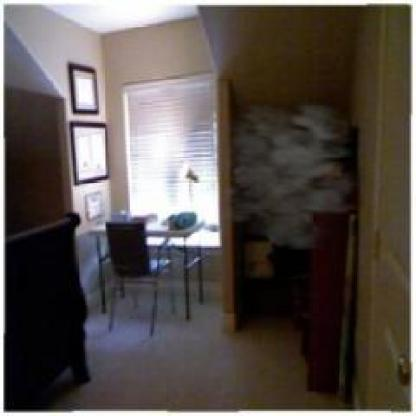Smoke: (202, 89, 368, 249)
